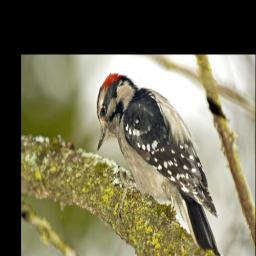Woodpecker: (96, 70, 231, 256)
